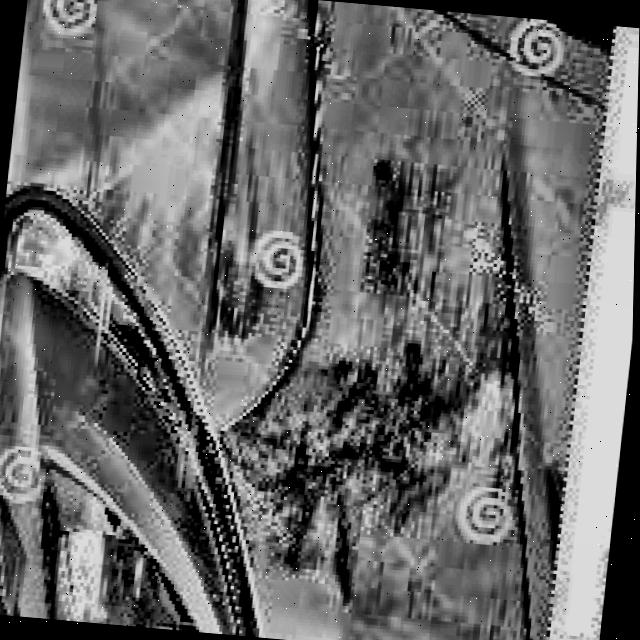bumper_scratch: (239, 269, 530, 586), (478, 175, 576, 640), (188, 0, 291, 351), (347, 142, 447, 278)
